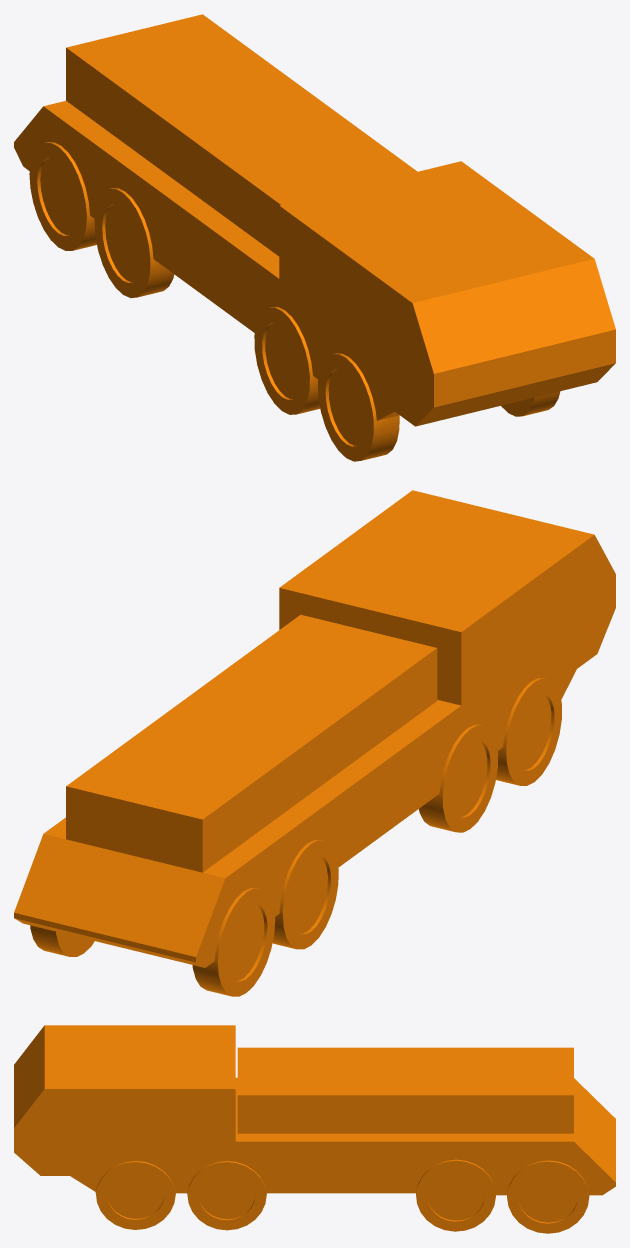
Rendered from Game_Piece_Troop_5_Orange_01.fbx.
3 renders of one model, top to bottom at view 1: azimuth 30°, elevation 25°; view 2: azimuth 150°, elevation 25°; view 3: azimuth 270°, elevation 25°, orthographic. The views are drawn at different scales.
Visible parts, largest first — view 1: Game_Piece_Troop_5_Orange_01; view 2: Game_Piece_Troop_5_Orange_01; view 3: Game_Piece_Troop_5_Orange_01.
Boxes of the visible parts, x1,y1,x2,y2 form: Game_Piece_Troop_5_Orange_01: (14, 14, 615, 461); Game_Piece_Troop_5_Orange_01: (14, 490, 615, 996); Game_Piece_Troop_5_Orange_01: (14, 1025, 615, 1233).
Bounding box in the file's own units: 11.9 × 12.11 × 45.96.
